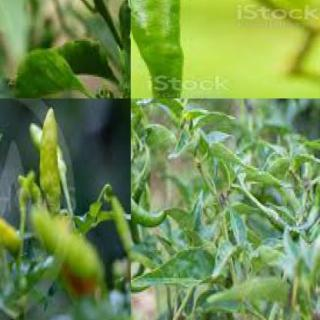green_chilli: (131, 0, 190, 98), (131, 99, 174, 222), (130, 152, 154, 289), (39, 105, 66, 211), (0, 137, 21, 261), (110, 191, 130, 257)
